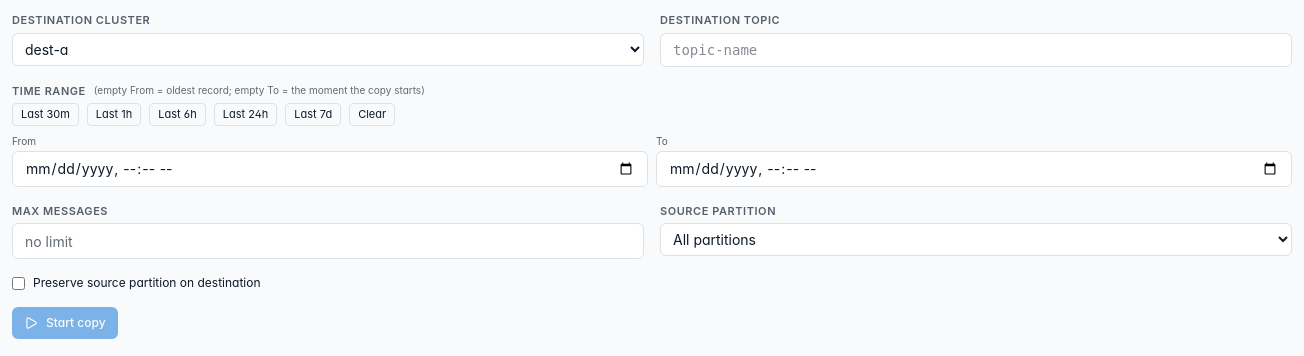
Test: BulkCopyPanel start gating › blocks Start until a destination topic is entered
Expected: the button "Start copy" is disabled, [12, 307, 118, 339]
Type "dest-topic" into the field with placeholder "topic-name". click: (976, 50)
box: [660, 32, 1292, 66]
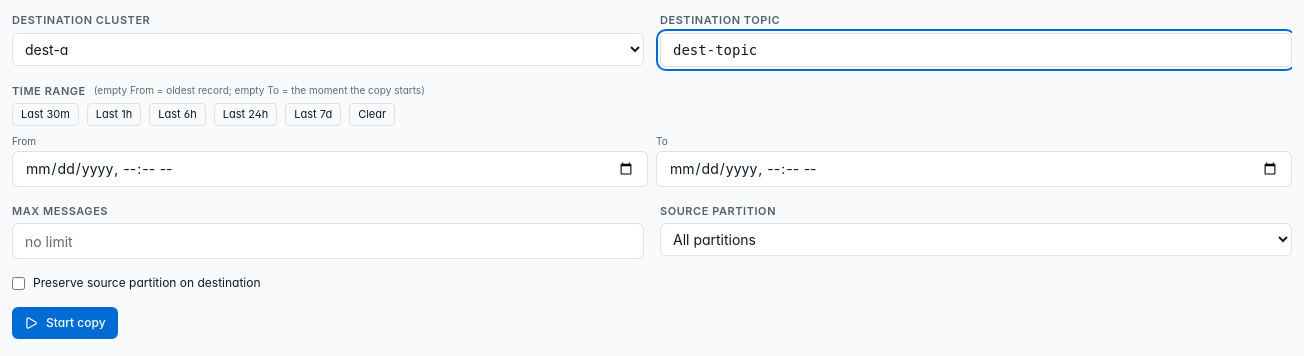
Expected: the button "Start copy" is enabled, [12, 307, 118, 339]
Clear the field with placeholder "topic-name". click: (976, 50)
box: [660, 32, 1292, 66]
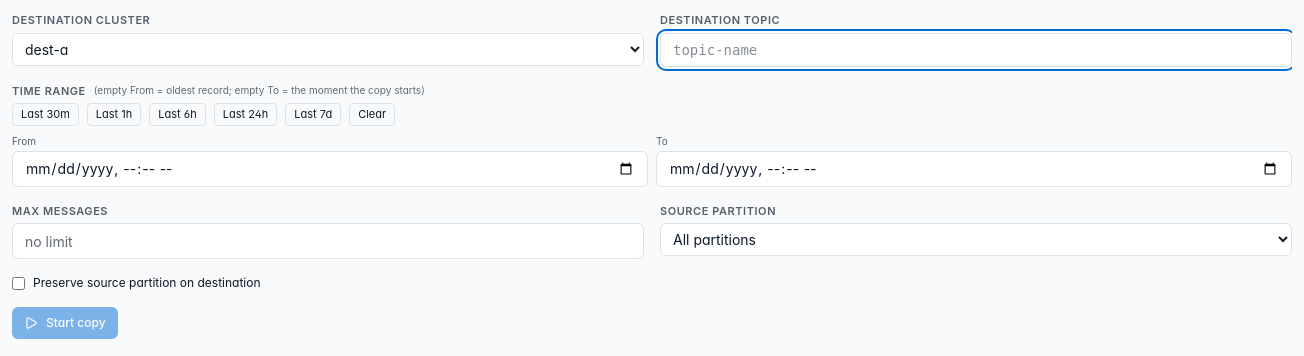
Expected: the button "Start copy" is disabled, [12, 307, 118, 339]
